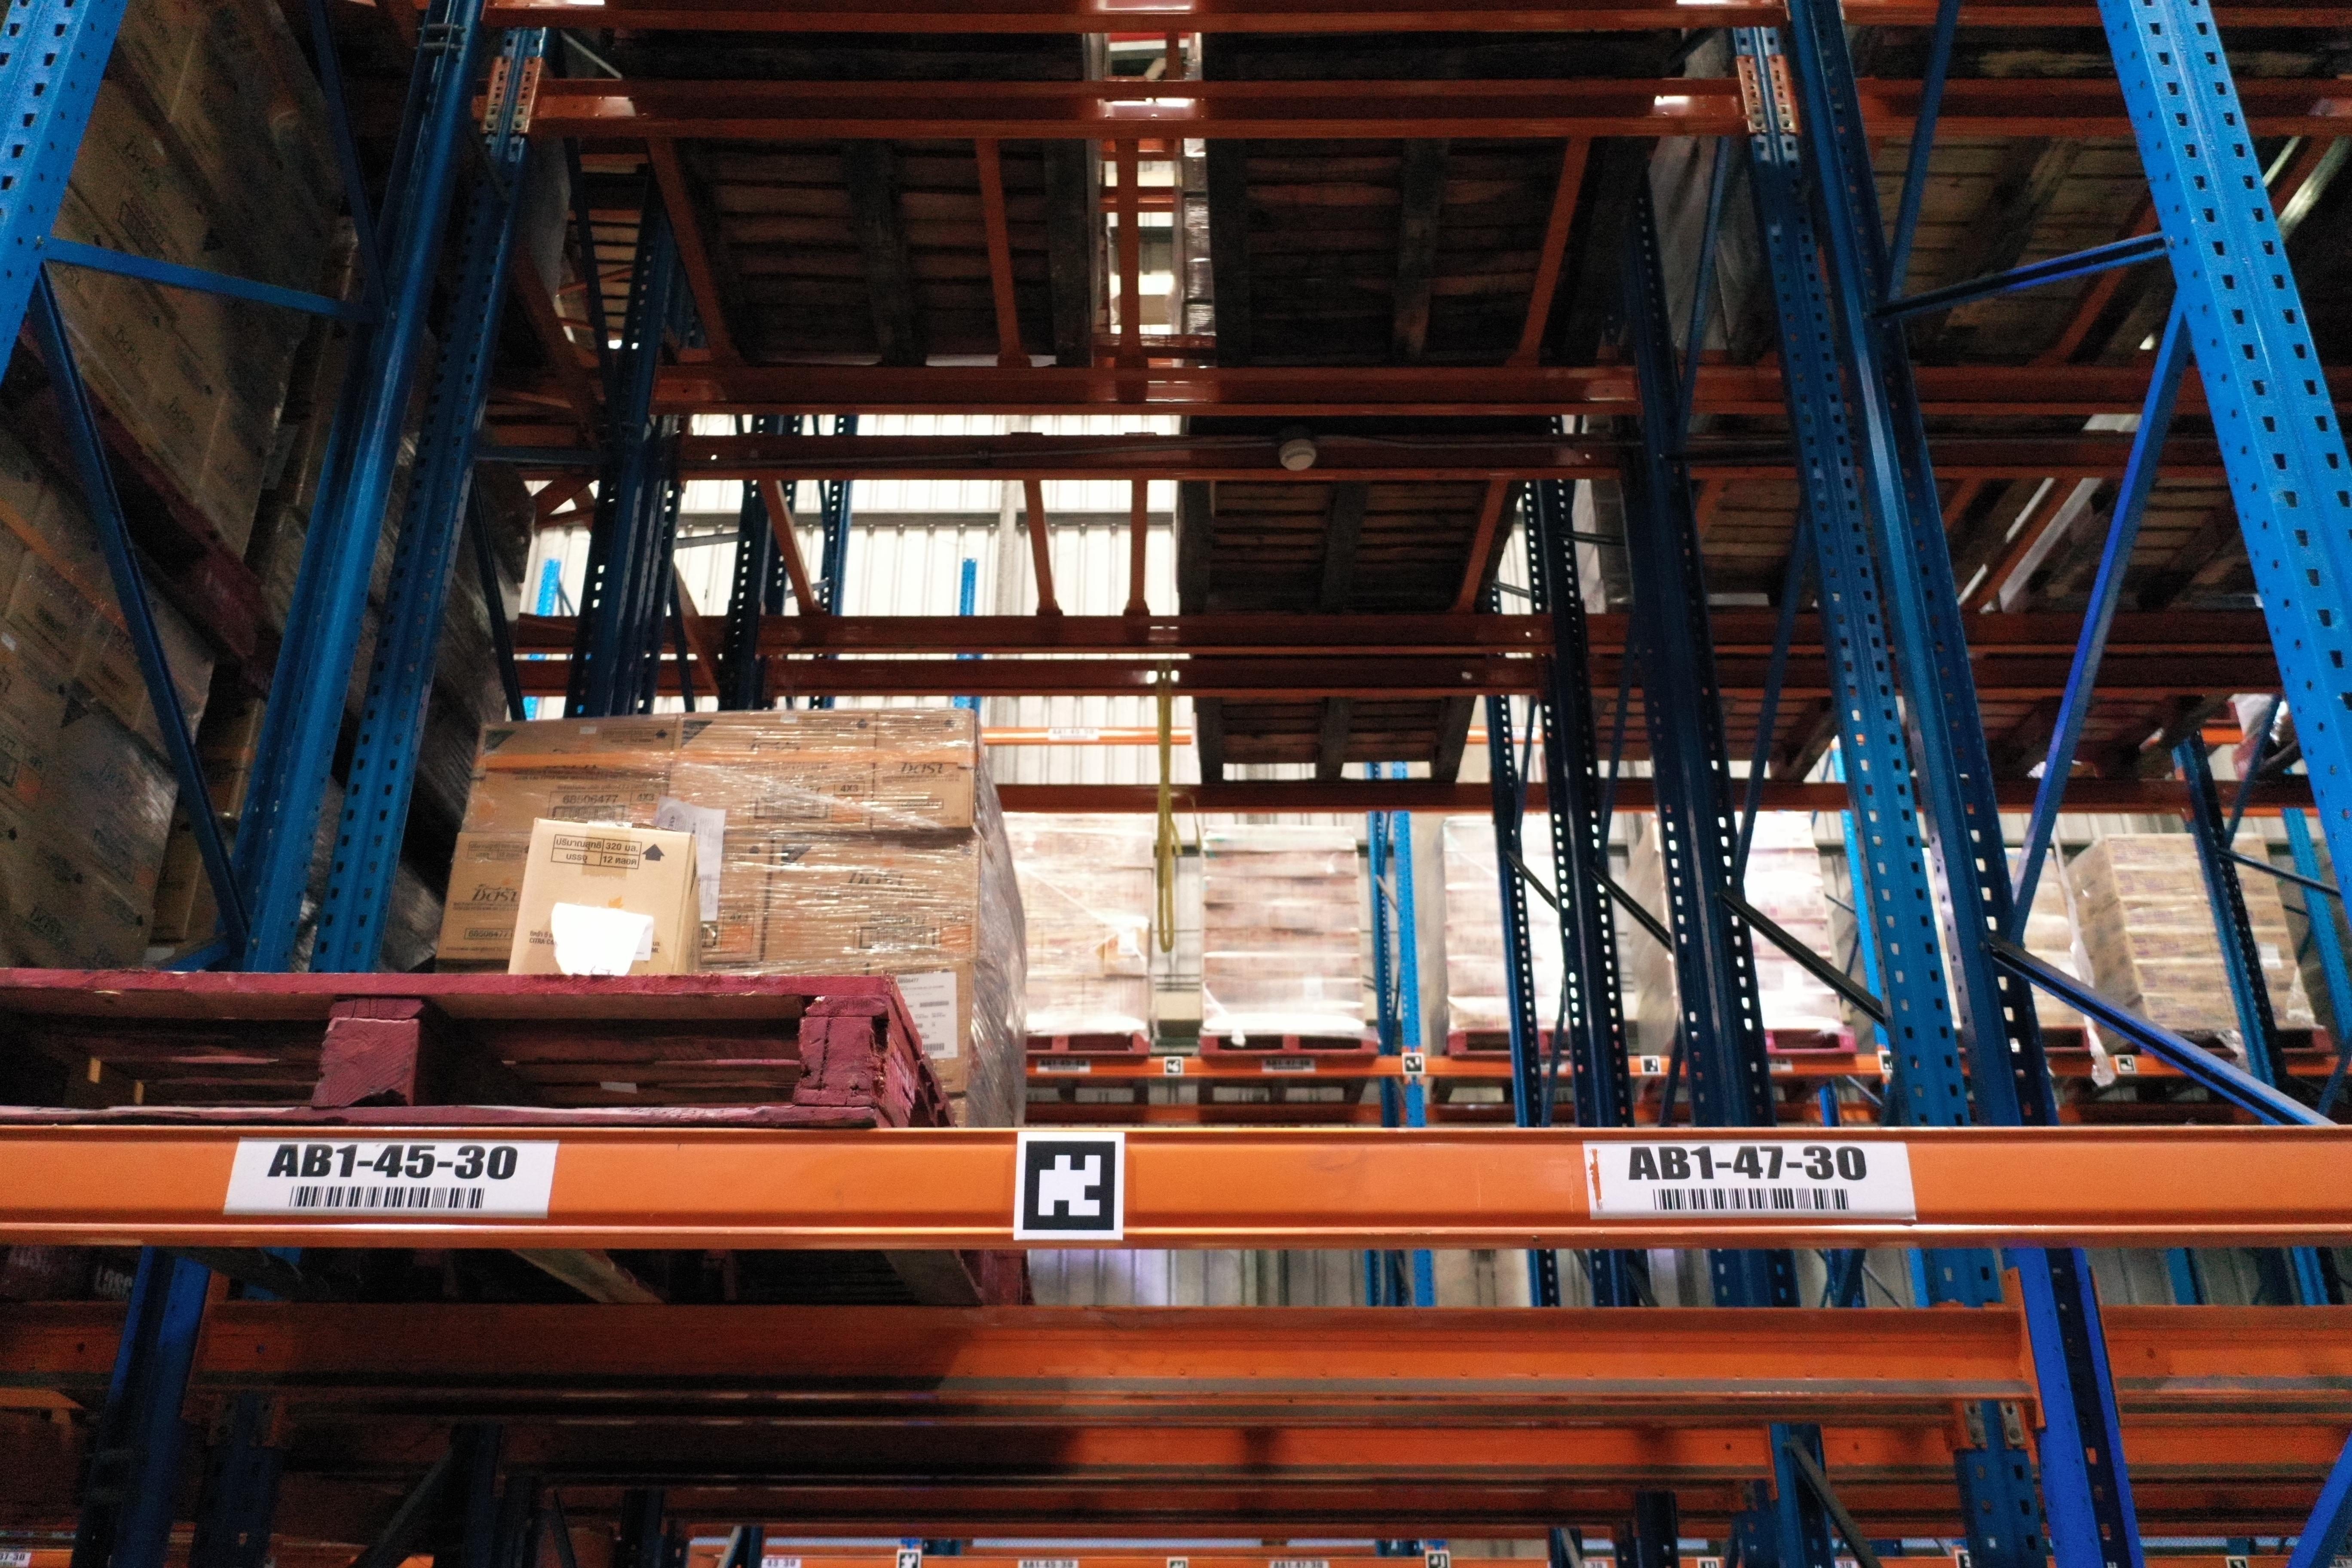-: (509, 812, 695, 982)
box: (766, 829, 976, 973), (464, 719, 681, 838), (672, 716, 877, 836), (870, 714, 976, 833), (441, 829, 530, 959), (698, 836, 773, 964)
